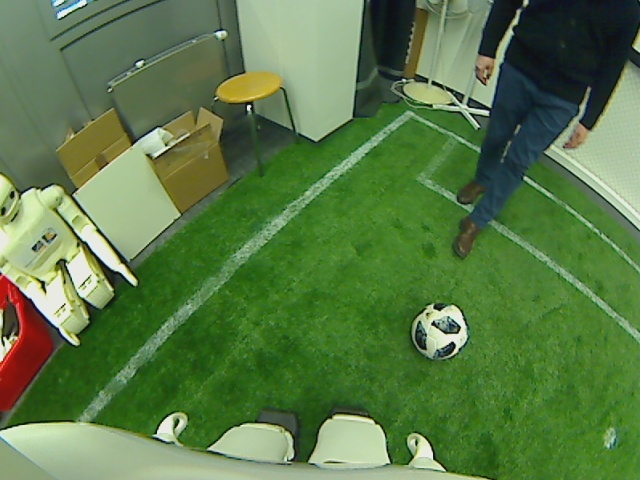ball: (408, 300, 471, 362)
